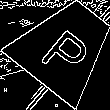P_NE: (35, 15, 96, 78)
